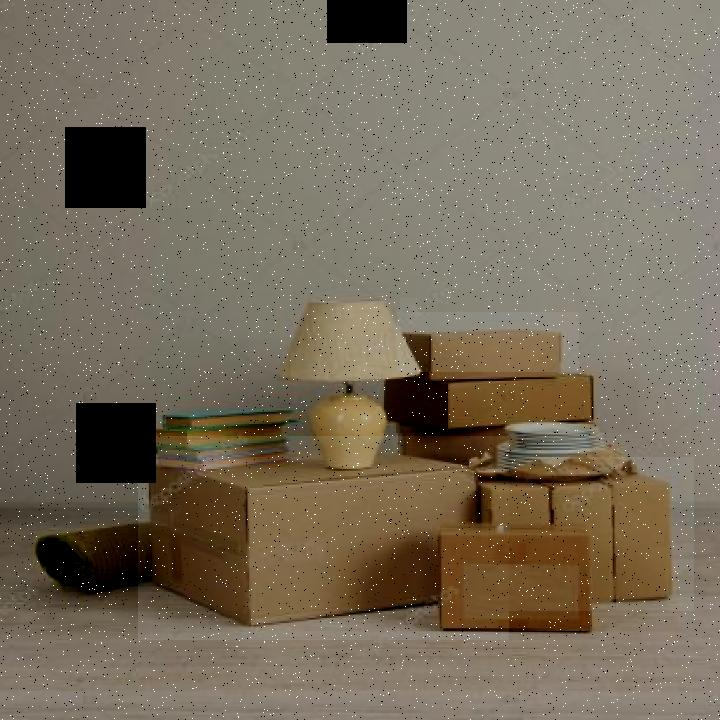box: (138, 436, 509, 640), (476, 457, 694, 611), (382, 372, 640, 433), (397, 312, 579, 388), (400, 298, 417, 332)
